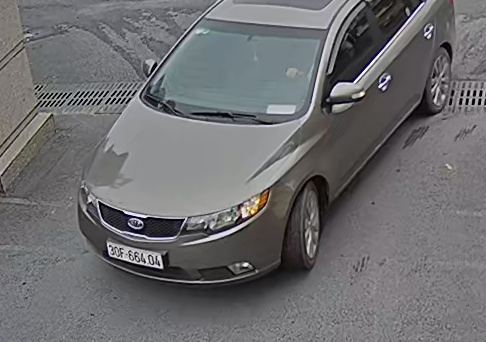vehicle plate: (100, 238, 165, 268)
